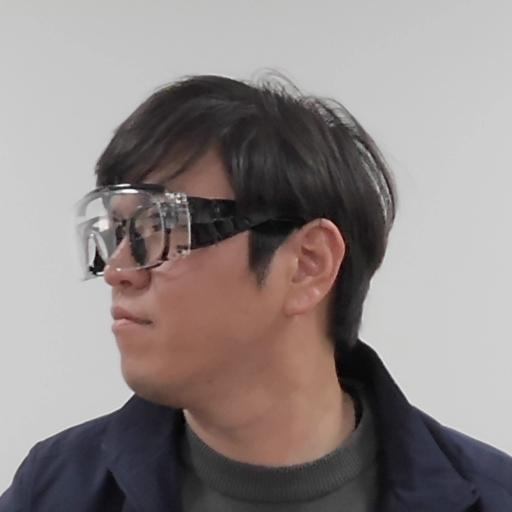glasses: (68, 67, 404, 405)
